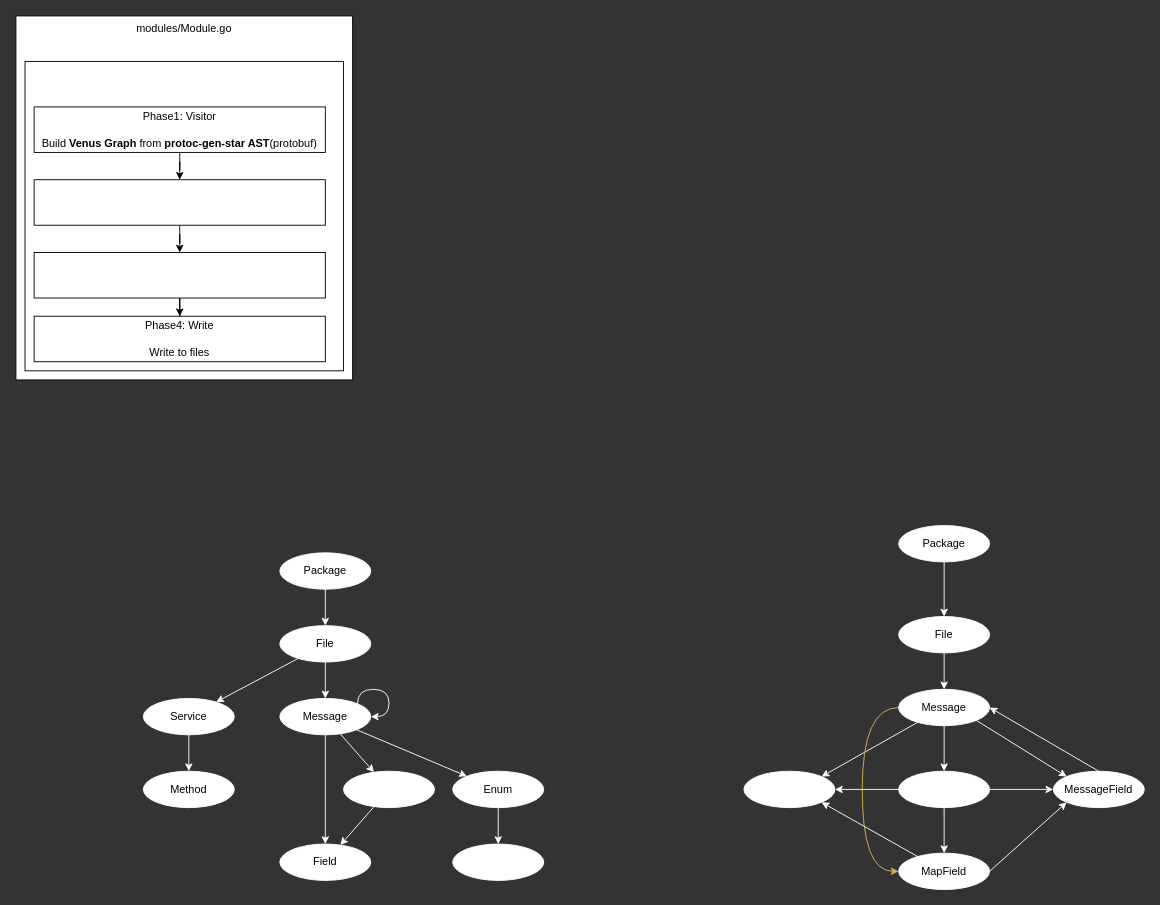
The diagram is 1160 pixels wide and 905 high, and some of its shapes have lost their labels. Each missing label, with the box of its shape:
Enum Value: (452, 843, 544, 880)
OneOf: (343, 770, 435, 808)
OneOfField: (898, 770, 990, 808)
Phase2: Builder Build Venus Form from Venus Graph: (33, 179, 325, 225)
Phase3: Transformer Transform Venus Component orders: (33, 252, 325, 298)
ScalaField: (743, 770, 835, 808)
VenusModule.Execute(): (24, 61, 344, 371)
